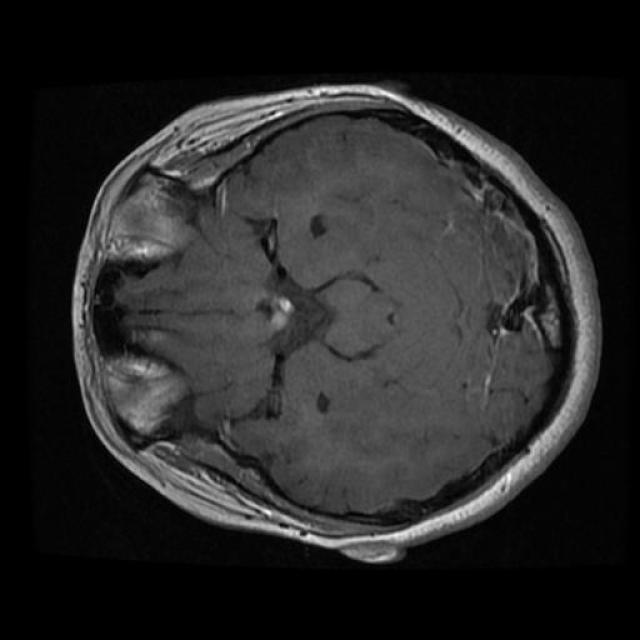Pituitary: (269, 296, 294, 330)
